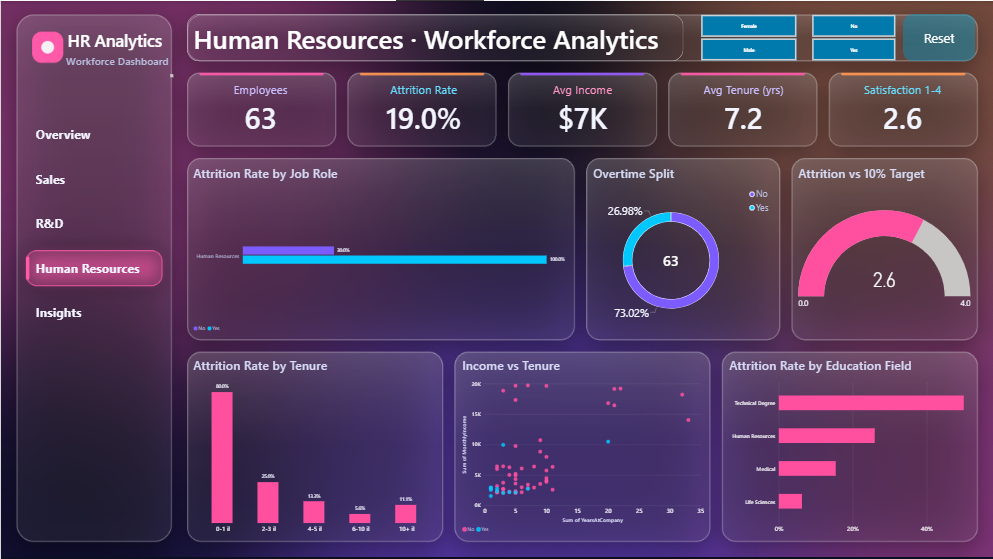

The page's visual inventory and layout, read from the dashboard file:
{"tool":"powerbi","page":{"name":"Human Resources","canvas":[2560,1440],"ordinal":3},"visuals":[{"type":"actionButton","box":[70,650,353,76],"z":0},{"type":"actionButton","box":[70,303.3,353.3,76.7],"z":1000},{"type":"actionButton","box":[70,765,353,76],"z":2000},{"type":"actionButton","box":[70,420,353,76],"z":3000},{"type":"actionButton","box":[70,535,353,76],"z":4000},{"type":"textbox","title":"HR Analytics","box":[165,73.3,256.7,55],"z":5000},{"type":"textbox","title":"Workforce Dashboard","box":[166.7,136.7,276.7,60],"z":6000},{"type":"cardVisual","fields":{"Data":["HR.Page Title"]},"box":[479.1,34,1281.3,122],"z":7000},{"type":"slicer","fields":{"Values":["HR.Gender"]},"box":[1785.8,34,286.3,122],"z":8000},{"type":"slicer","fields":{"Values":["HR.OverTime"]},"box":[2072.1,34,255.1,122],"z":9000},{"type":"actionButton","box":[2327.2,34,187.1,122],"z":10000},{"type":"cardVisual","fields":{"Data":["HR.Total Employees"]},"box":[480,185,380,186.7],"z":11000},{"type":"cardVisual","fields":{"Data":["HR.Attrition Rate"]},"box":[900,186.7,380,186.7],"z":12000},{"type":"cardVisual","fields":{"Data":["HR.Avg Monthly Income"]},"box":[1310,186.7,380,186.7],"z":13000},{"type":"cardVisual","fields":{"Data":["HR.Avg Tenure"]},"box":[1726.7,186.7,380,186.7],"z":14000},{"type":"cardVisual","fields":{"Data":["HR.Avg Job Satisfaction"]},"box":[2136.7,186.7,380,186.7],"z":15000},{"type":"donutChart","title":"Overtime Split","fields":{"Category":["HR.OverTime"],"Y":["HR.Total Employees"]},"box":[1513.3,406.7,493.3,466.7],"z":16000},{"type":"gauge","title":"Attrition vs 10% Target","fields":{"Y":["HR.Avg Job Satisfaction"]},"box":[2040,406.7,476.7,466.7],"z":17000},{"type":"clusteredColumnChart","title":"Attrition Rate by Tenure","fields":{"Category":["HR.TenureBand"],"Y":["HR.Attrition Rate"]},"box":[480,903.3,660,490],"z":18000},{"type":"scatterChart","title":"Income vs Tenure","fields":{"Category":["HR.EmployeeNumber"],"Series":["HR.Attrition"],"X":["Sum(HR.YearsAtCompany)"],"Y":["Sum(HR.MonthlyIncome)"]},"box":[1173.3,903.3,656.7,490],"z":19000},{"type":"clusteredBarChart","title":"Attrition Rate by Education Field","fields":{"Category":["HR.EducationField"],"Y":["HR.Attrition Rate"]},"box":[1863.3,903.3,653.3,490],"z":20000},{"type":"clusteredBarChart","title":"Attrition Rate by Job Role","fields":{"Category":["HR.JobRole"],"Series":["HR.Attrition"],"Y":["HR.Attrition Rate"]},"box":[480.4,406.5,991.1,467],"z":21000}]}

Visuals, with their boxes in screenshot pixels (x1, y1, x2, y2), scaled from the page's 2560x1440 canvas onto the 993x559 screenshot:
actionButton: [left=27, top=252, right=164, bottom=282]
actionButton: [left=27, top=118, right=164, bottom=148]
actionButton: [left=27, top=297, right=164, bottom=326]
actionButton: [left=27, top=163, right=164, bottom=193]
actionButton: [left=27, top=208, right=164, bottom=237]
"HR Analytics" textbox: [left=64, top=28, right=164, bottom=50]
"Workforce Dashboard" textbox: [left=65, top=53, right=172, bottom=76]
cardVisual - HR.Page Title: [left=186, top=13, right=683, bottom=61]
slicer - HR.Gender: [left=693, top=13, right=804, bottom=61]
slicer - HR.OverTime: [left=804, top=13, right=903, bottom=61]
actionButton: [left=903, top=13, right=975, bottom=61]
cardVisual - HR.Total Employees: [left=186, top=72, right=334, bottom=144]
cardVisual - HR.Attrition Rate: [left=349, top=72, right=496, bottom=145]
cardVisual - HR.Avg Monthly Income: [left=508, top=72, right=656, bottom=145]
cardVisual - HR.Avg Tenure: [left=670, top=72, right=817, bottom=145]
cardVisual - HR.Avg Job Satisfaction: [left=829, top=72, right=976, bottom=145]
"Overtime Split" donutChart: [left=587, top=158, right=778, bottom=339]
"Attrition vs 10% Target" gauge: [left=791, top=158, right=976, bottom=339]
"Attrition Rate by Tenure" clusteredColumnChart: [left=186, top=351, right=442, bottom=541]
"Income vs Tenure" scatterChart: [left=455, top=351, right=710, bottom=541]
"Attrition Rate by Education Field" clusteredBarChart: [left=723, top=351, right=976, bottom=541]
"Attrition Rate by Job Role" clusteredBarChart: [left=186, top=158, right=571, bottom=339]
